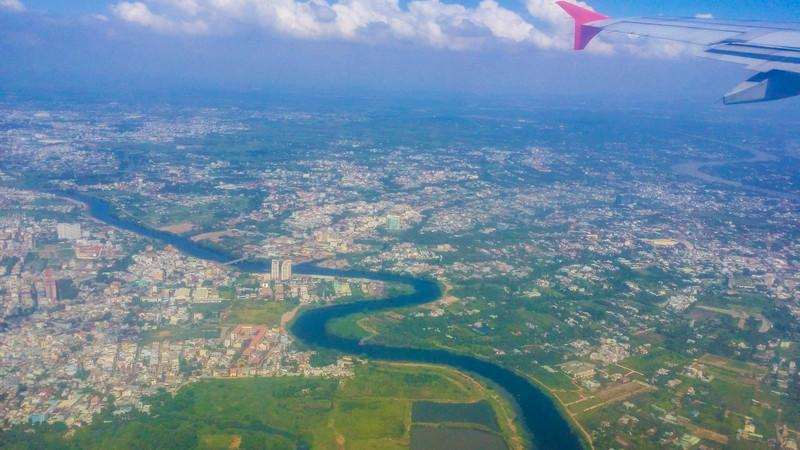sea_river: (206, 73, 791, 399)
sky_cloud: (0, 0, 731, 101)
